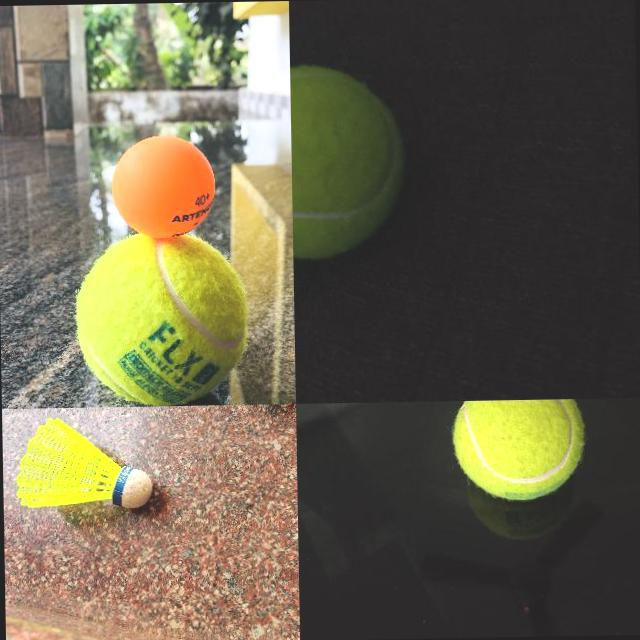Tennis Ball: (75, 238, 248, 406), (290, 62, 408, 258), (451, 398, 586, 502)
